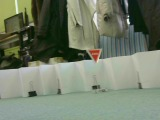stop: (85, 47, 103, 65)
